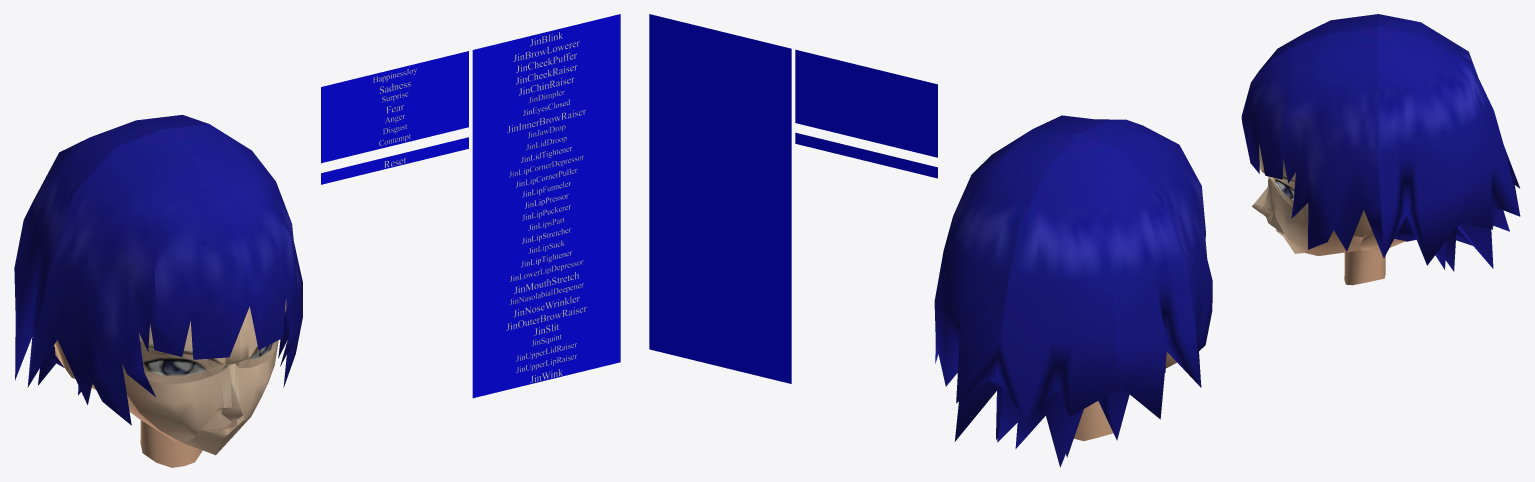
Rendered from CleanedYouClocks.glb.
3 views of the same model, side by side, from view 1: azimuth 30°, elevation 25°; view 2: azimuth 150°, elevation 25°; view 3: azimuth 270°, elevation 25° (orthographic). The views are drawn at different scales.
Visible parts, largest first — view 1: Shape_152, Shape_167, Shape_568, Shape_315, Shape_348, Shape_370, Shape_392, Shape_546, Shape_326, Shape_403, Shape_425, Shape_502 (+33 smaller); view 2: Shape_152, Shape_414, Shape_491, Shape_568, Shape_260, Shape_293, Shape_337, Shape_370, Shape_447, Shape_326, Shape_535, Shape_667 (+28 smaller); view 3: Shape_152, Shape_55, Shape_147.
Part boxes in pixels (x1=…): Shape_152: x1=14, y1=115, x2=302, y2=425; Shape_167: x1=91, y1=364, x2=223, y2=442; Shape_568: x1=472, y1=339, x2=620, y2=386; Shape_315: x1=472, y1=72, x2=620, y2=119; Shape_348: x1=472, y1=107, x2=620, y2=154; Shape_370: x1=472, y1=130, x2=620, y2=177; Shape_392: x1=472, y1=153, x2=620, y2=200; Shape_546: x1=472, y1=316, x2=620, y2=363; Shape_326: x1=472, y1=83, x2=620, y2=130; Shape_403: x1=472, y1=165, x2=620, y2=212; Shape_425: x1=472, y1=188, x2=620, y2=235; Shape_502: x1=472, y1=269, x2=620, y2=316; Shape_152: x1=934, y1=115, x2=1212, y2=467; Shape_414: x1=649, y1=170, x2=791, y2=216; Shape_491: x1=649, y1=249, x2=791, y2=294; Shape_568: x1=649, y1=327, x2=791, y2=372; Shape_260: x1=649, y1=14, x2=791, y2=59; Shape_293: x1=649, y1=47, x2=791, y2=93; Shape_337: x1=649, y1=92, x2=791, y2=137; Shape_370: x1=649, y1=126, x2=791, y2=171; Shape_447: x1=649, y1=204, x2=791, y2=249; Shape_326: x1=649, y1=81, x2=791, y2=126; Shape_535: x1=649, y1=293, x2=791, y2=339; Shape_667: x1=795, y1=132, x2=937, y2=178; Shape_152: x1=1241, y1=14, x2=1520, y2=271; Shape_55: x1=1269, y1=182, x2=1363, y2=256; Shape_147: x1=1344, y1=250, x2=1385, y2=285.
Bounding box in the file's own units: 158 × 90 × 82.78.
119 materials, 81 textured.
